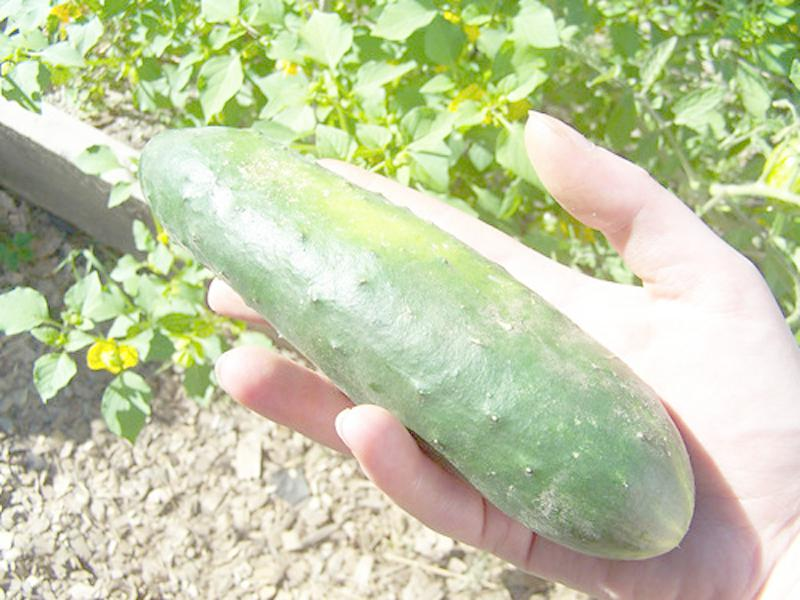Cucumber: (137, 128, 692, 557)
